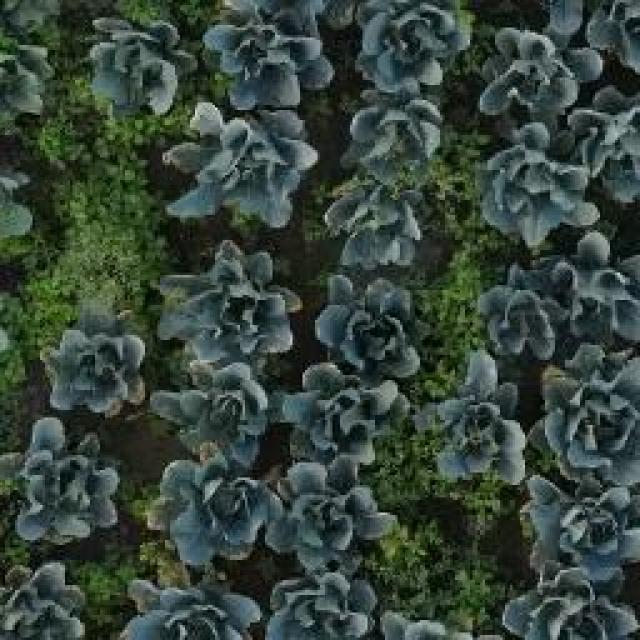cabbage: (163, 111, 320, 225), (155, 240, 300, 358), (270, 452, 398, 570), (538, 344, 640, 488), (484, 123, 599, 248), (5, 422, 121, 545), (148, 355, 274, 465), (422, 364, 531, 490), (148, 460, 280, 564), (203, 0, 334, 103), (278, 358, 409, 456), (75, 10, 194, 116), (35, 316, 153, 422), (521, 475, 640, 580), (310, 269, 426, 374), (477, 29, 605, 122), (344, 1, 464, 95), (118, 565, 262, 640), (492, 570, 640, 640), (475, 260, 576, 362), (324, 175, 429, 268), (341, 91, 448, 180), (263, 571, 380, 640)
